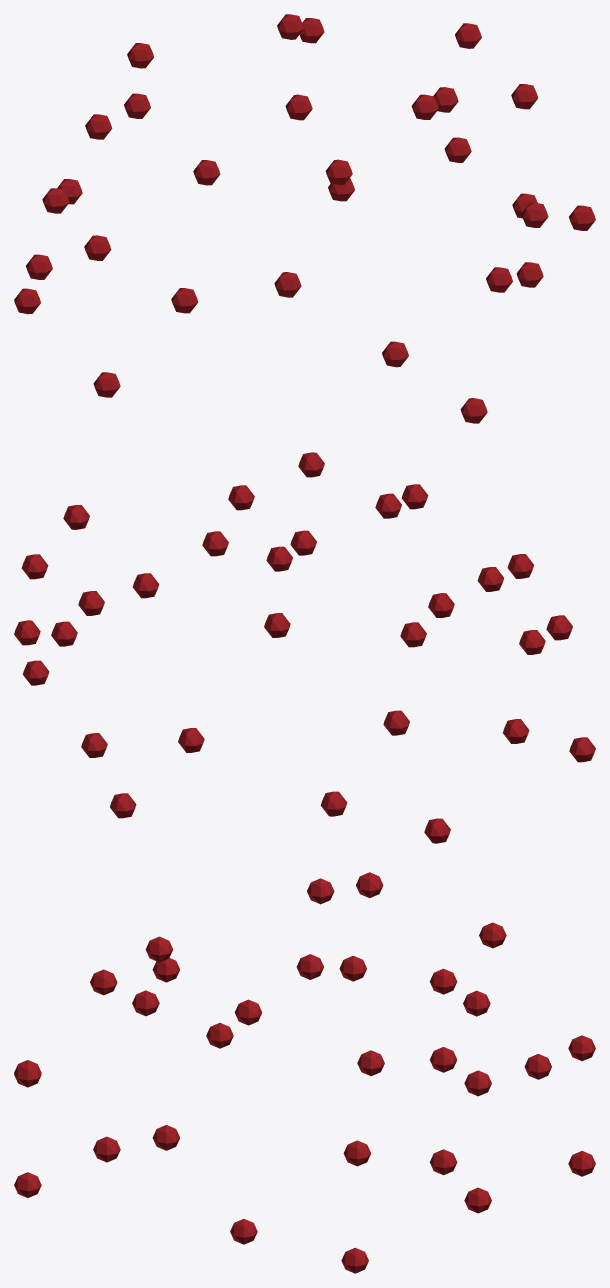
File: Hedge-4x4x2-Cross_Berries.FBX
3 renders of one model, top to bottom at view 1: azimuth 30°, elevation 25°; view 2: azimuth 150°, elevation 25°; view 3: azimuth 270°, elevation 25°, orthographic.
Parts seen in each view (by area): view 1: Hedge-4x4x2-Cross_Berries; view 2: Hedge-4x4x2-Cross_Berries; view 3: Hedge-4x4x2-Cross_Berries.
Part boxes in pixels (x1,y1,x2,y2): Hedge-4x4x2-Cross_Berries: [14, 14, 595, 423]; Hedge-4x4x2-Cross_Berries: [14, 452, 595, 843]; Hedge-4x4x2-Cross_Berries: [14, 872, 595, 1273].
Bounding box in the file's own units: 42 × 18.16 × 42.
